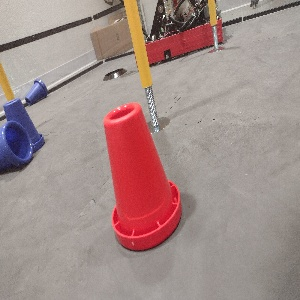Red_1: (101, 101, 183, 253)
